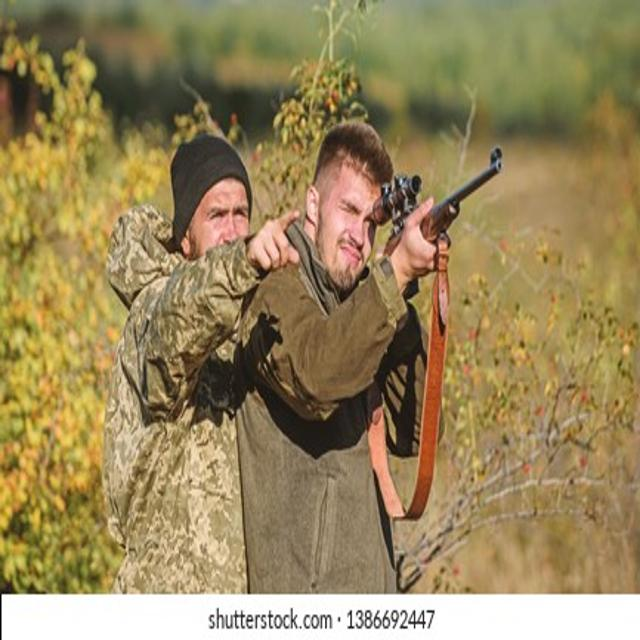gun: (283, 119, 551, 334)
poacher: (195, 79, 574, 597), (54, 113, 334, 595)
